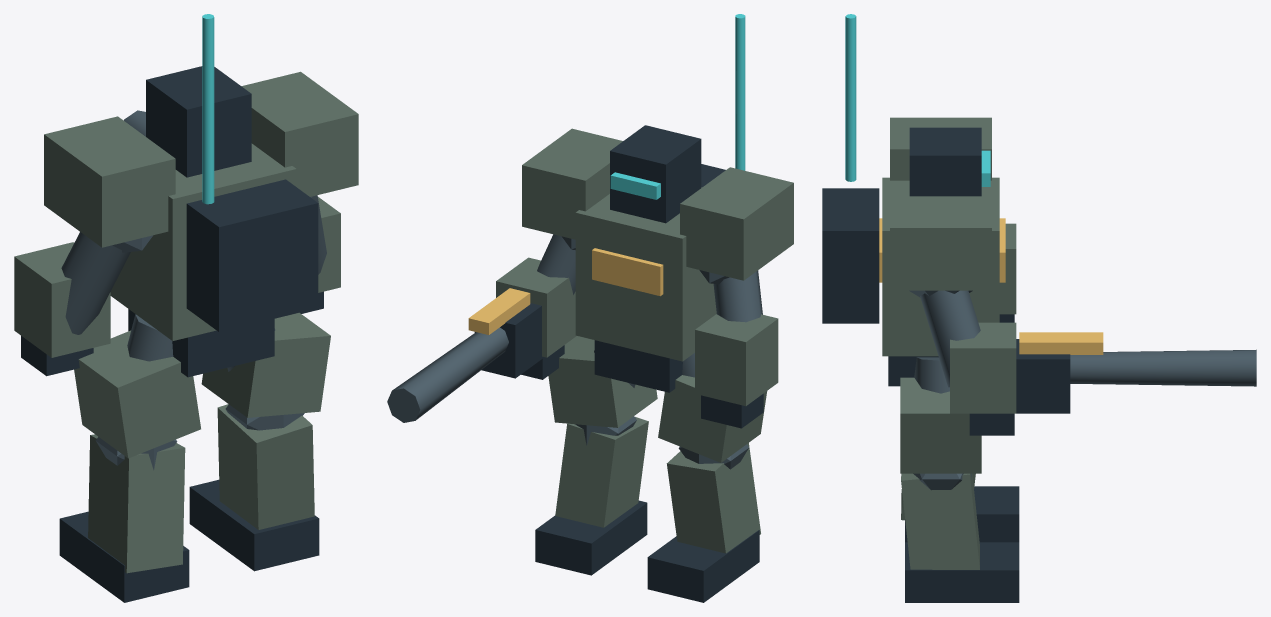
Rendered from frame-goblin.glb.
3 views of the same model, side by side, from view 1: azimuth 30°, elevation 25°; view 2: azimuth 150°, elevation 25°; view 3: azimuth 270°, elevation 25° (orthographic). The views are drawn at different scales.
Parts seen in each view (by area): view 1: frame-goblin; view 2: frame-goblin; view 3: frame-goblin.
Part boxes in pixels (box(x1,y1,x2,y2)): frame-goblin: box(14, 14, 358, 602); frame-goblin: box(387, 14, 793, 602); frame-goblin: box(822, 14, 1256, 602).
Size of the model in its own units: 0.98 by 1.93 by 1.44.
